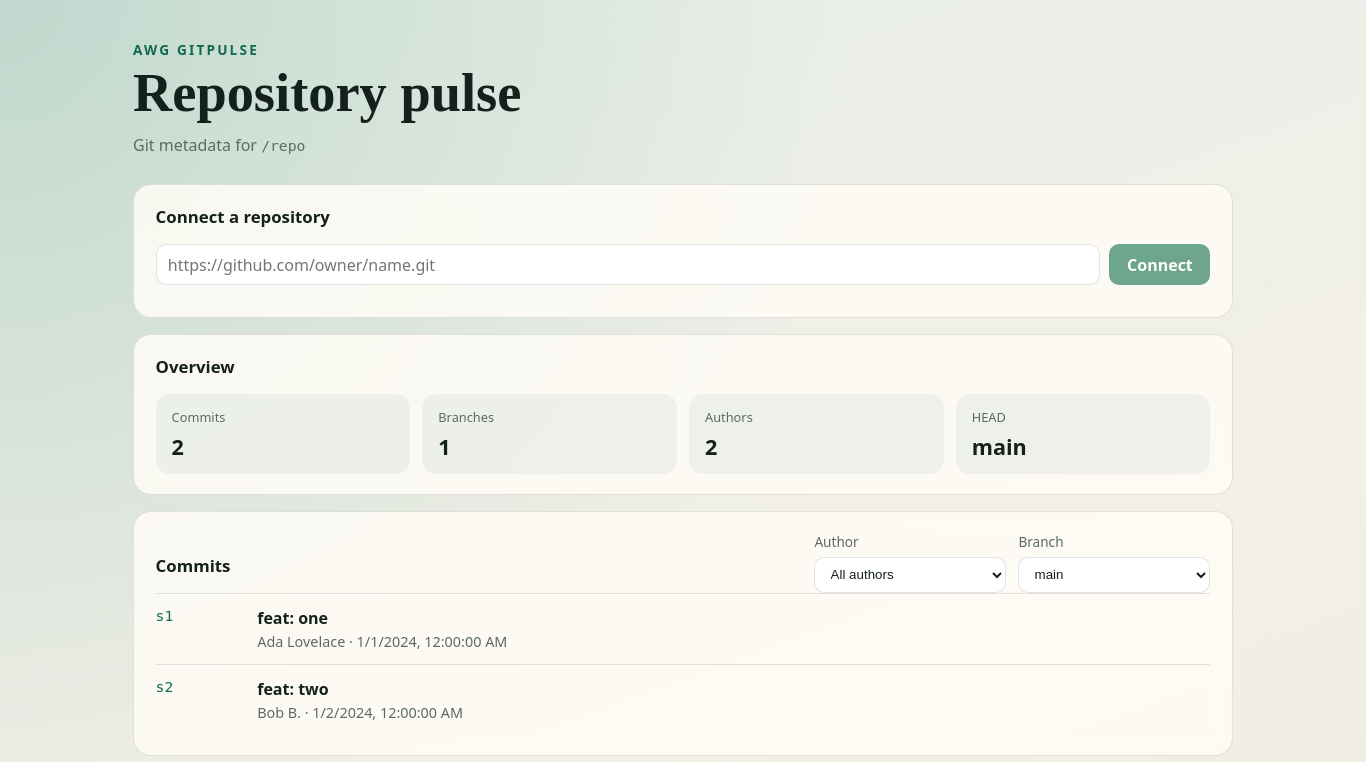
Test: App author filter › narrows the commit feed and activity trend to the selected author
The image size is (1366, 762).
Expected: the text "feat: two" is shown, [257,678,329,700]
Select "Ada Lovelace" in the dropdown labelled "Author" at [910, 575], box [814,557,1006,593]
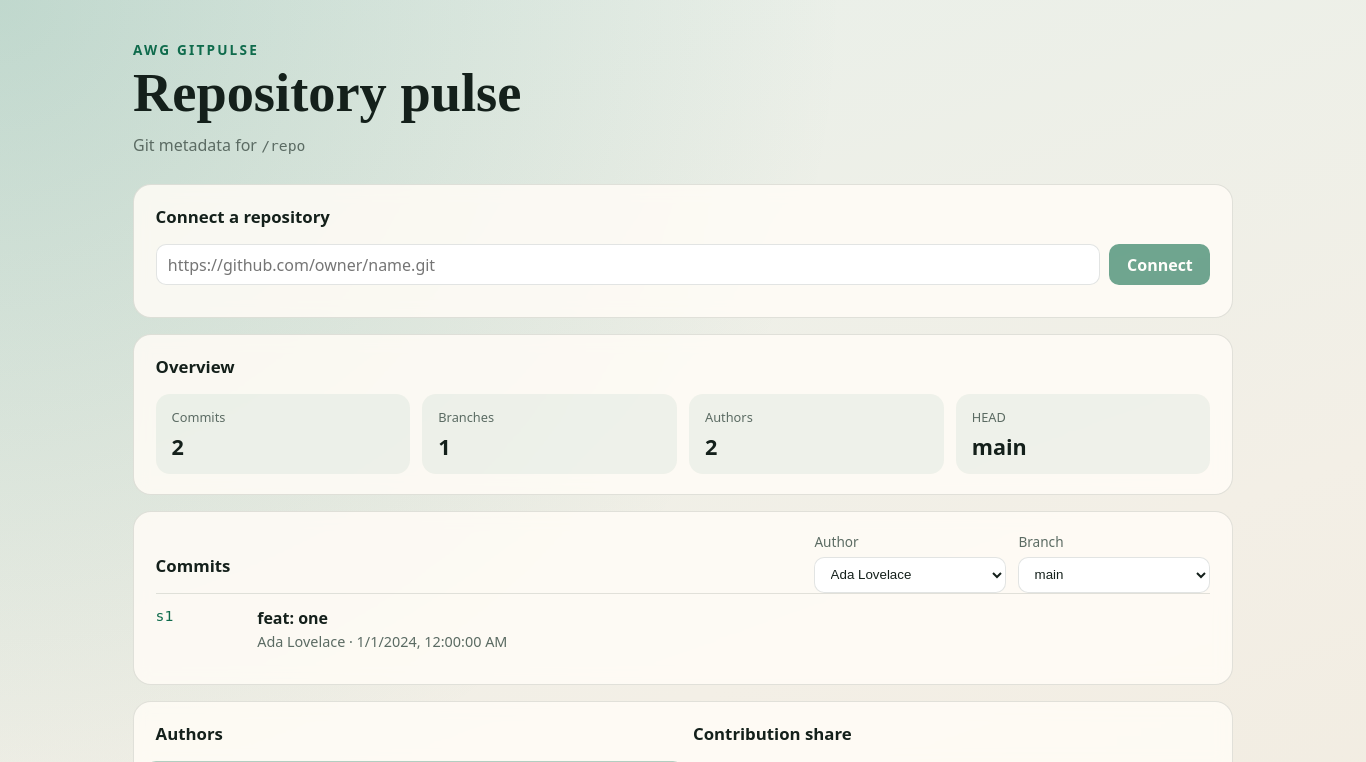
Expected: the text "feat: one" is shown, [257,607,328,629]
Now the text "feat: two" is gone
